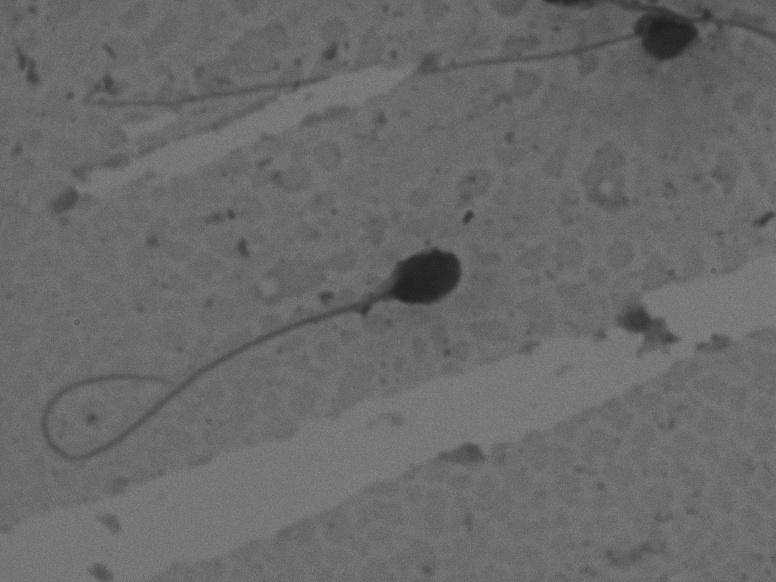Abnormal: (27, 219, 489, 490)
